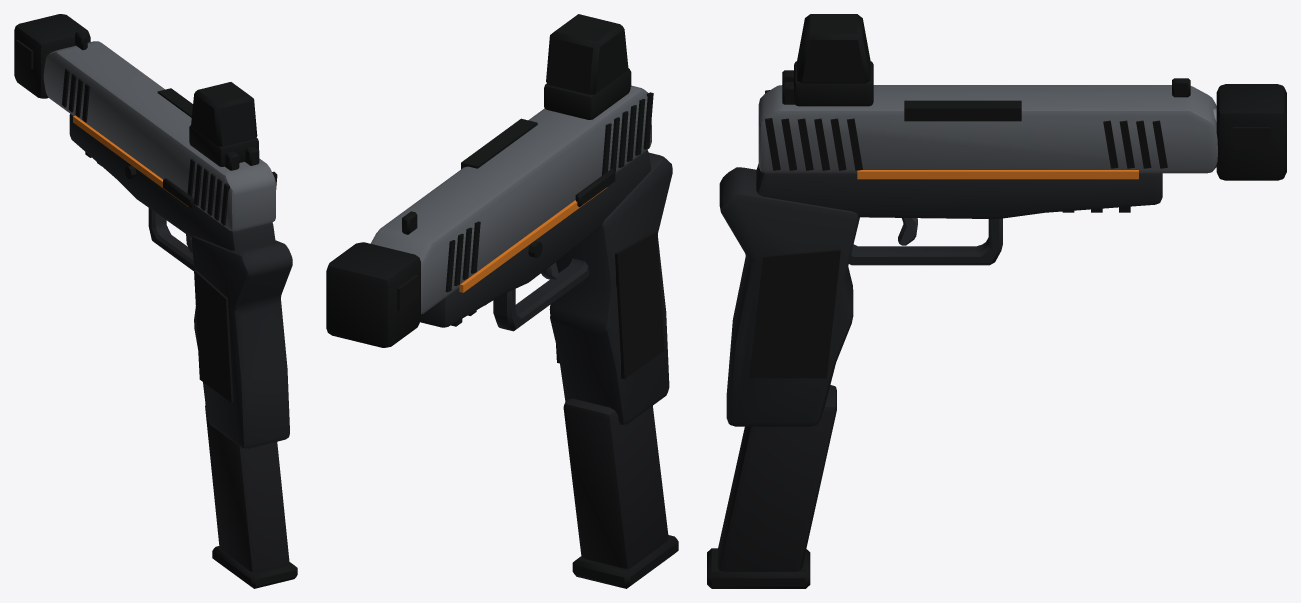
The model's file is gun_10.glb.
3 renders of one model, left to right at view 1: azimuth 30°, elevation 25°; view 2: azimuth 150°, elevation 25°; view 3: azimuth 270°, elevation 25°, orthographic. The views are drawn at different scales.
Visible parts, largest first — view 1: gun_10; view 2: gun_10; view 3: gun_10.
Part boxes in pixels (x1,y1,x2,y2): gun_10: (14,14,297,588); gun_10: (326,14,678,588); gun_10: (707,14,1286,588).
Bounding box in the file's own units: 0.0344 × 0.26 × 0.247.
